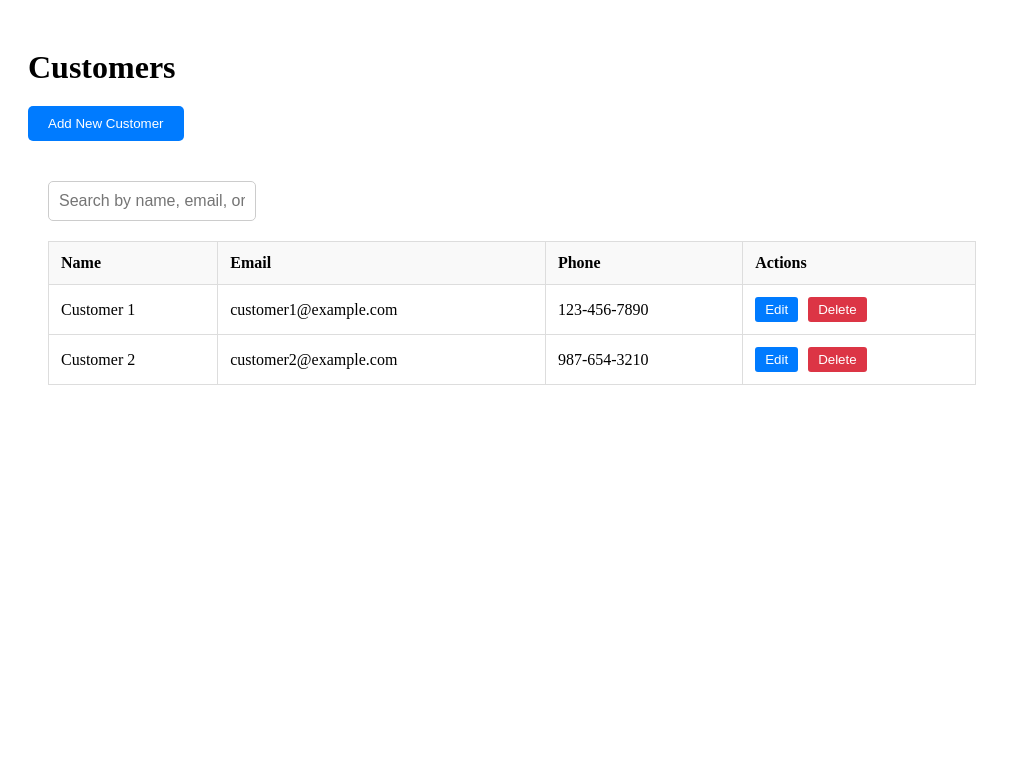
Test: CustomersPage › should open the CustomerFormDrawer when Add New Customer button is clicked
The width and height of the screenshot is (1036, 768).
Click the Add New Customer button
Click the button "Add New Customer".
click(106, 124)  # box [28,106,184,141]
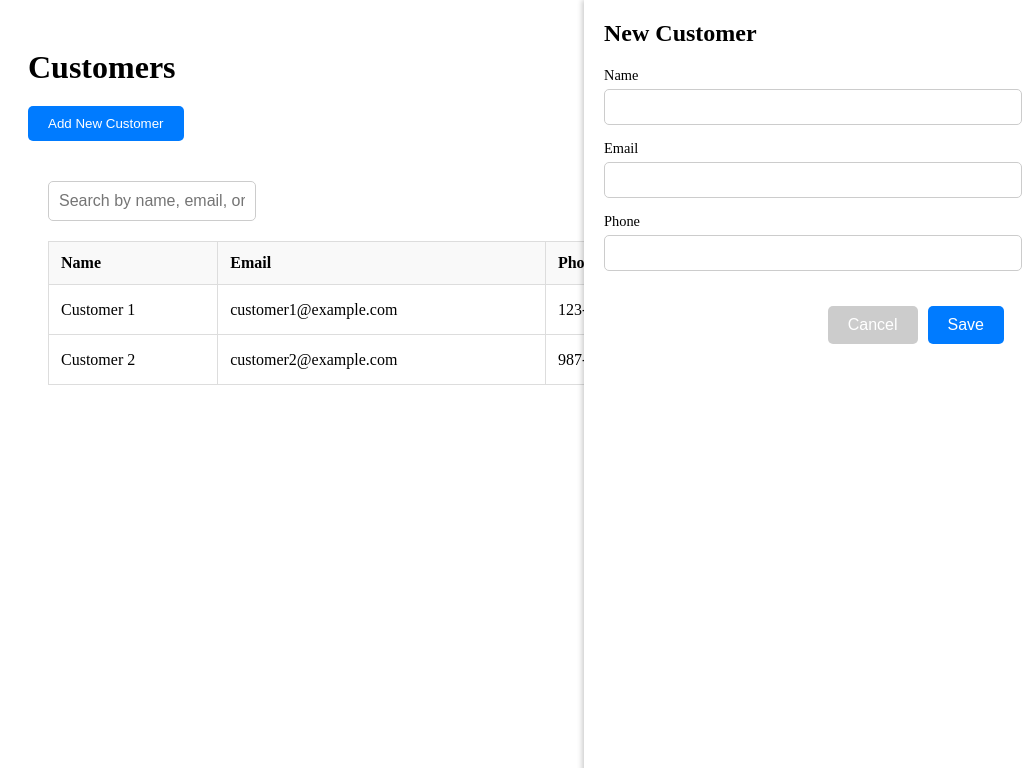
Check: the heading "New Customer" is shown, box [604,20,757,47]
Check: the field labelled "Name" is shown, box [604,89,1022,125]
Check: the field labelled "Email" is shown, box [604,162,1022,198]
